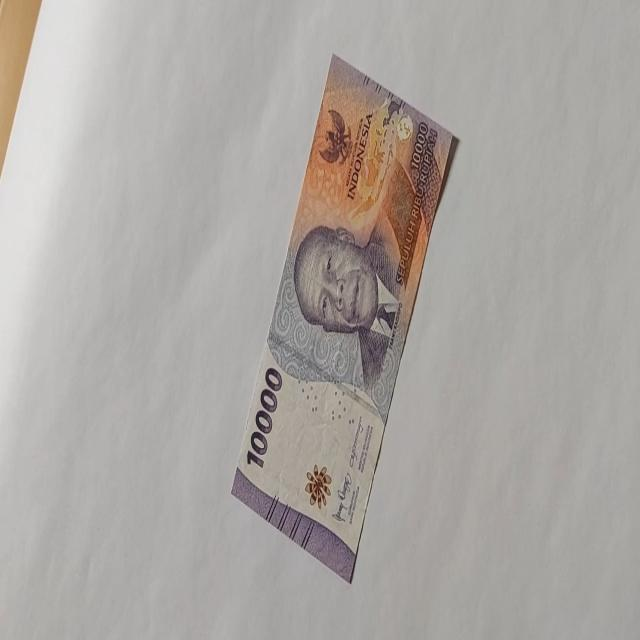sepuluh ribu rupiah: (230, 52, 458, 584), (291, 218, 403, 392)
